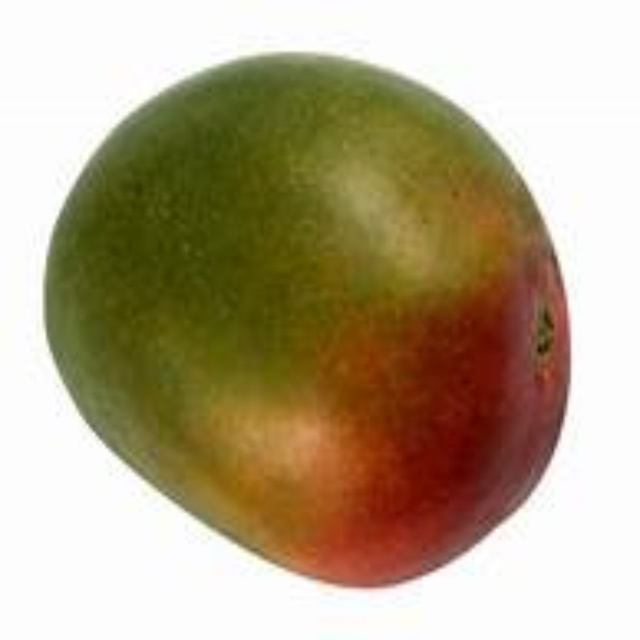mango: (41, 53, 571, 587)
